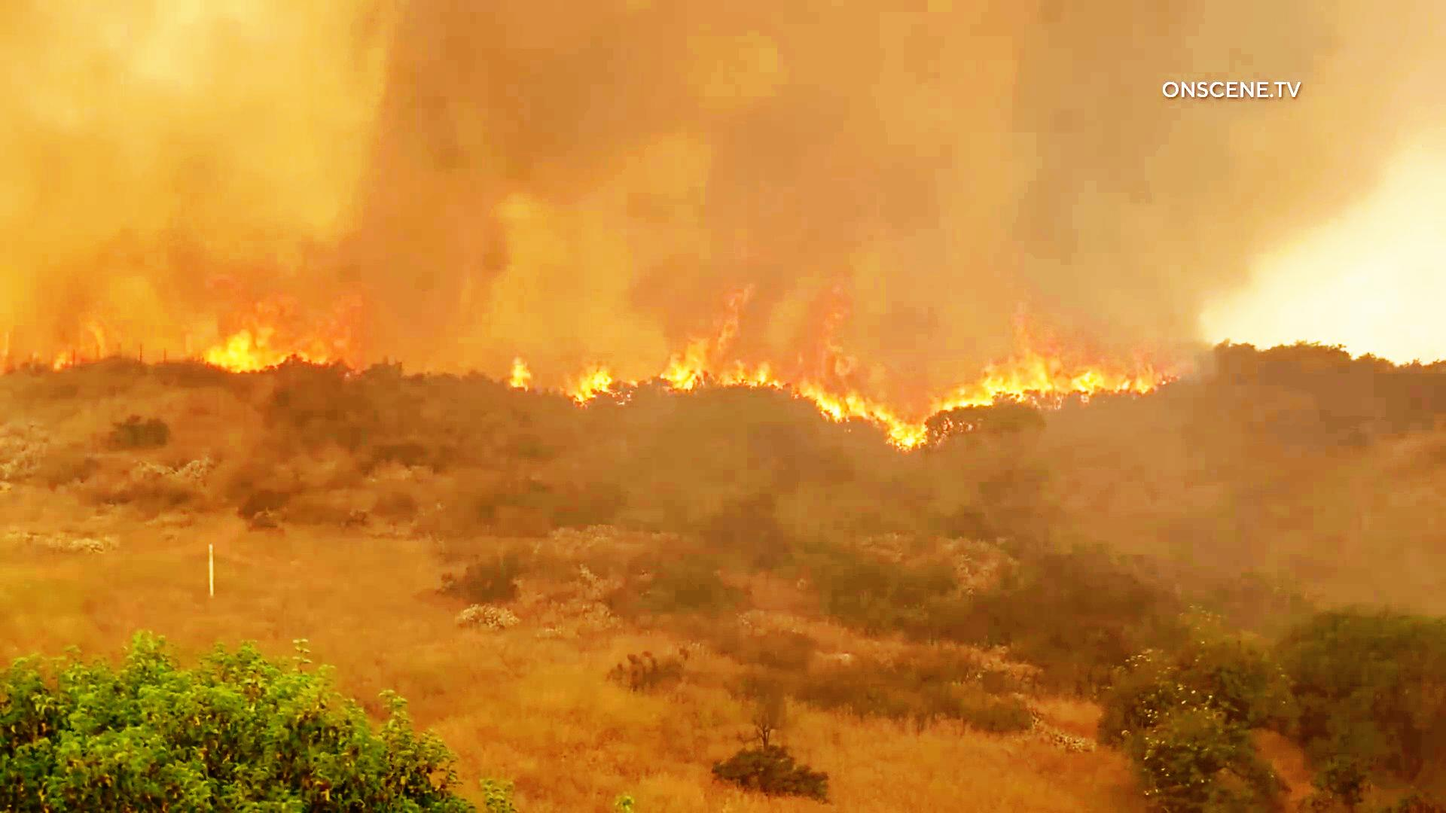fire: (676, 296, 910, 449), (895, 311, 1155, 399), (204, 275, 371, 378)
